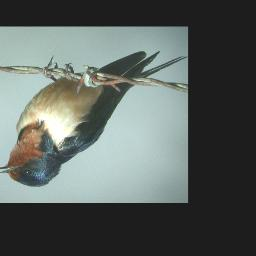Swallow: (0, 51, 188, 188)
